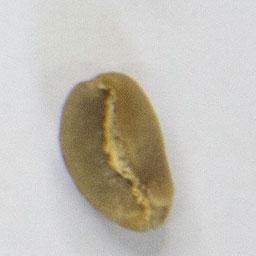longberry: (55, 67, 177, 237)
